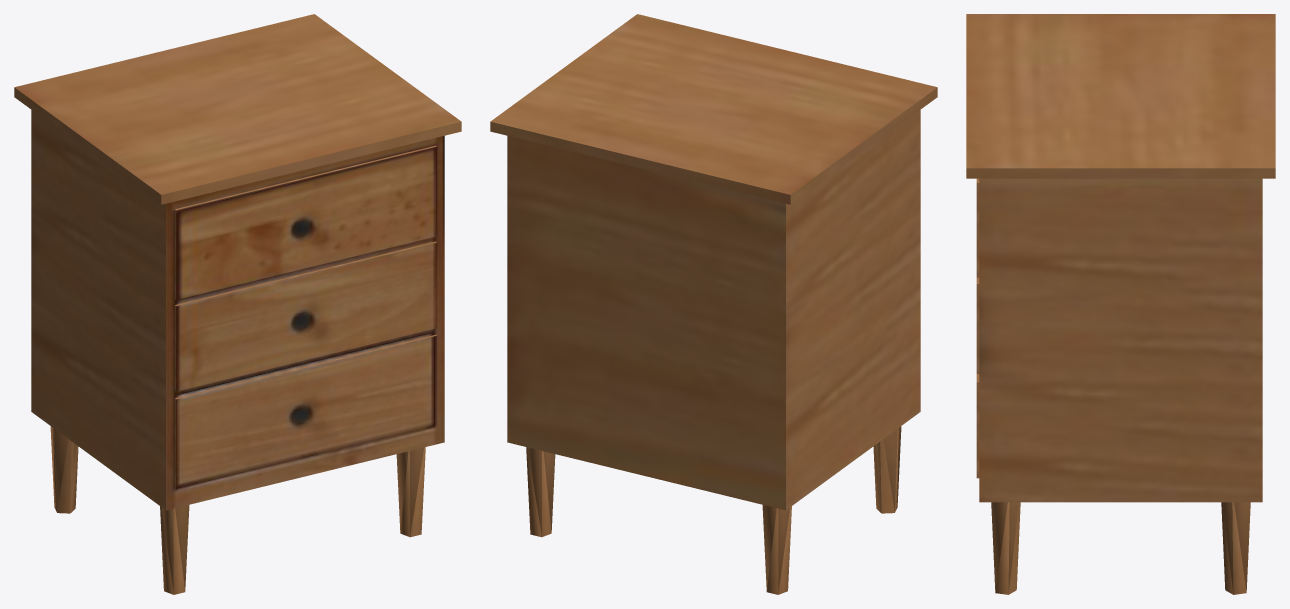
Rendered from comoda_c.glb.
3 views of the same model, side by side, from view 1: azimuth 30°, elevation 25°; view 2: azimuth 150°, elevation 25°; view 3: azimuth 270°, elevation 25° (orthographic). The views are drawn at different scales.
Visible parts, largest first — view 1: comoda_c; view 2: comoda_c; view 3: comoda_c.
Boxes of the visible parts, bbox=[...] form: comoda_c: bbox=[14, 14, 461, 594]; comoda_c: bbox=[490, 14, 937, 594]; comoda_c: bbox=[966, 14, 1275, 594].
Size of the model in its own units: 0.6983 by 0.9257 by 0.5925.
1 material, 1 textured.
